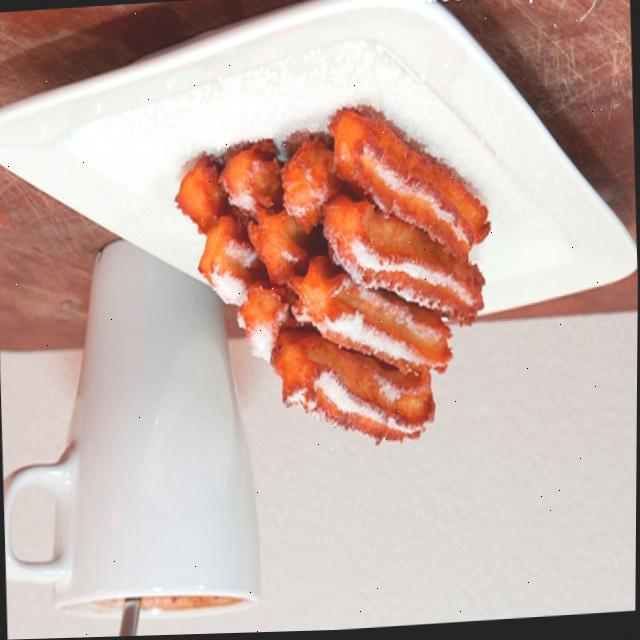炸货点心: (123, 74, 549, 530)
